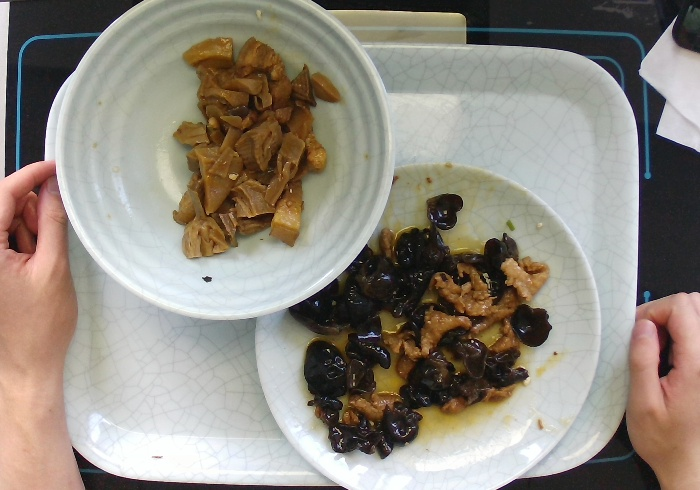JYsf-Da_Tang_Wan: (55, 1, 397, 328)
JYsf-Da_Yuan_Pan: (249, 160, 604, 490)
